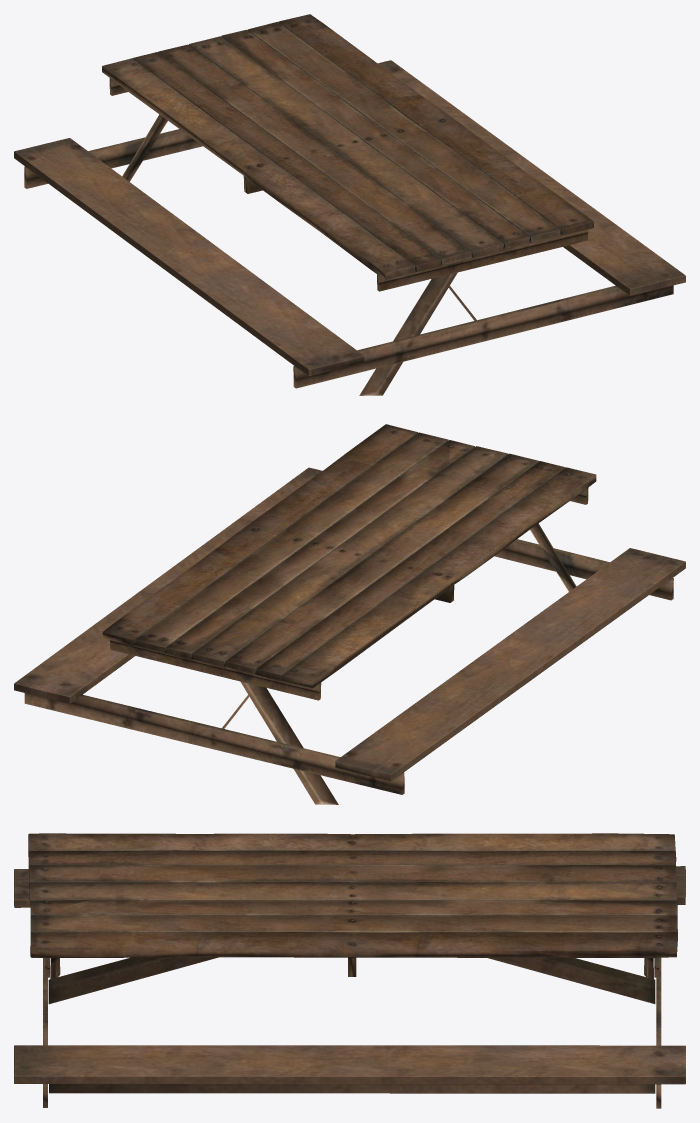
File: picnic_table.glb
3 renders of one model, top to bottom at view 1: azimuth 30°, elevation 25°; view 2: azimuth 150°, elevation 25°; view 3: azimuth 270°, elevation 25°, orthographic. The views are drawn at different scales.
Parts seen in each view (by area): view 1: picnic_table; view 2: picnic_table; view 3: picnic_table.
Part boxes in pixels (x1,y1,x2,y2): picnic_table: [14, 14, 685, 395]; picnic_table: [14, 424, 685, 804]; picnic_table: [14, 833, 685, 1108].
Size of the model in its own units: 2.24 by 0.7449 by 3.02.
2 materials, 2 textured.
